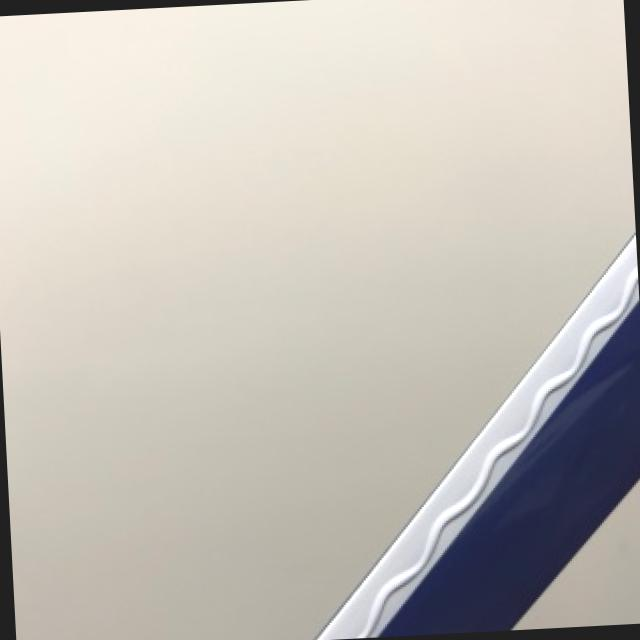healthy: (320, 233, 640, 638), (524, 485, 640, 628)
